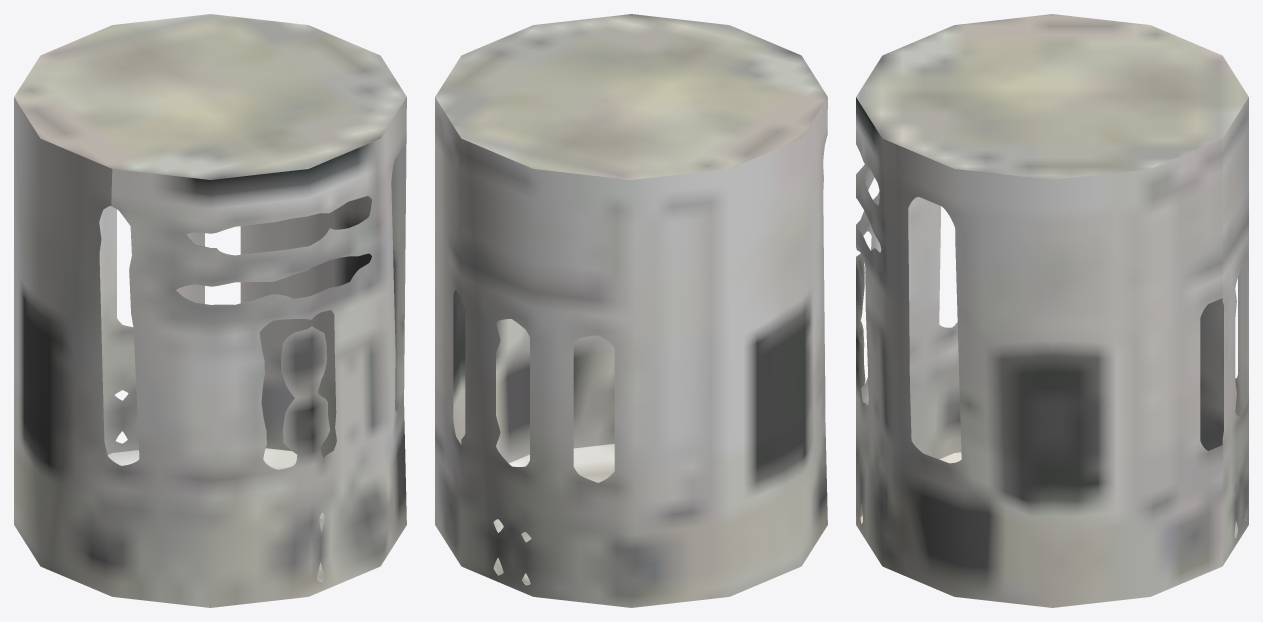
Rendered from poi_r2_torso_l2.fbx.
The picture shows the model from 3 angles, left to right: view 1: azimuth 30°, elevation 25°; view 2: azimuth 150°, elevation 25°; view 3: azimuth 270°, elevation 25°; orthographic projection.
Visible parts, largest first — view 1: mesh_node; view 2: mesh_node; view 3: mesh_node.
Part boxes in pixels (box(x1,y1,x2,y2)): mesh_node: box(14, 14, 406, 607); mesh_node: box(435, 14, 827, 607); mesh_node: box(856, 14, 1248, 607).
Size of the model in its own units: 0.4403 by 0.5541 by 0.4403.
1 material, 1 textured.
